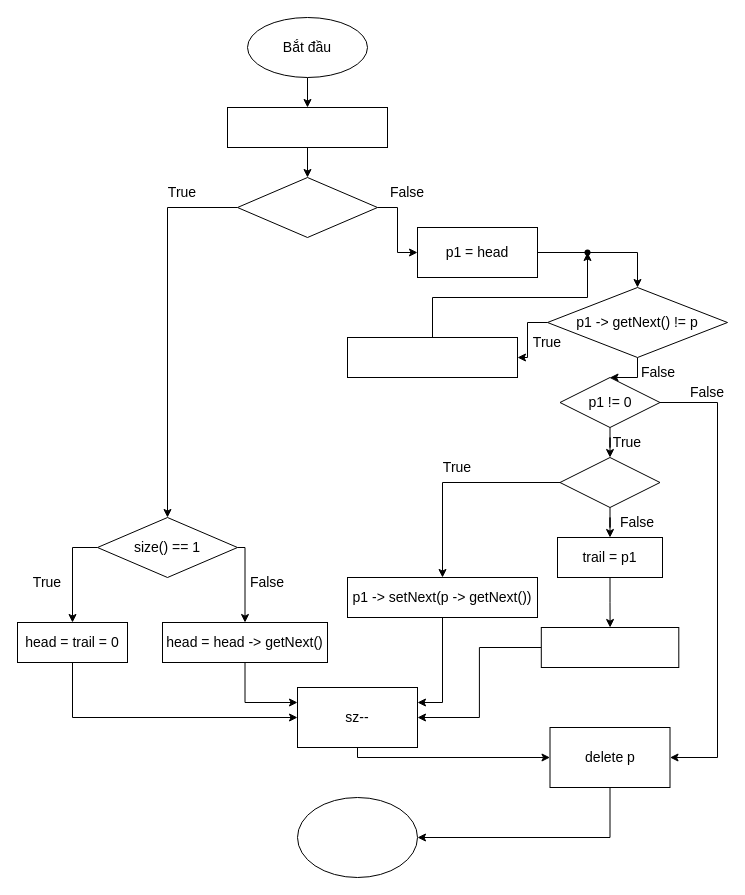
This 745x895 diagram has some shape labels left out. Each missing label, with the centre of its shape:
"Kết thúc" belongs at point (357, 837).
"Node <Keys, T> *p1" belongs at point (307, 127).
"p == head" belongs at point (307, 207).
"p1 != trail" belongs at point (609, 482).
"p1 -> setNext(0)" belongs at point (609, 647).
"p1 = p1 -> getNext()" belongs at point (432, 357).
